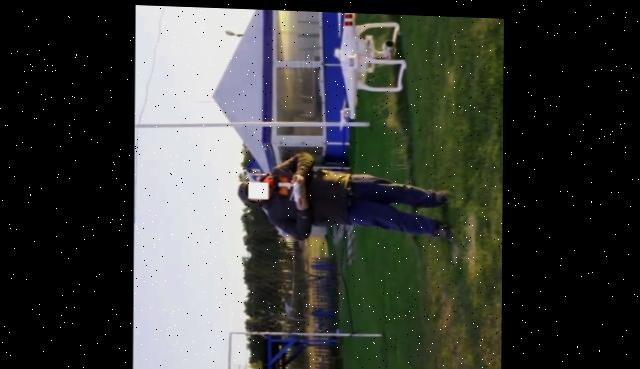drone: (330, 10, 405, 132)
